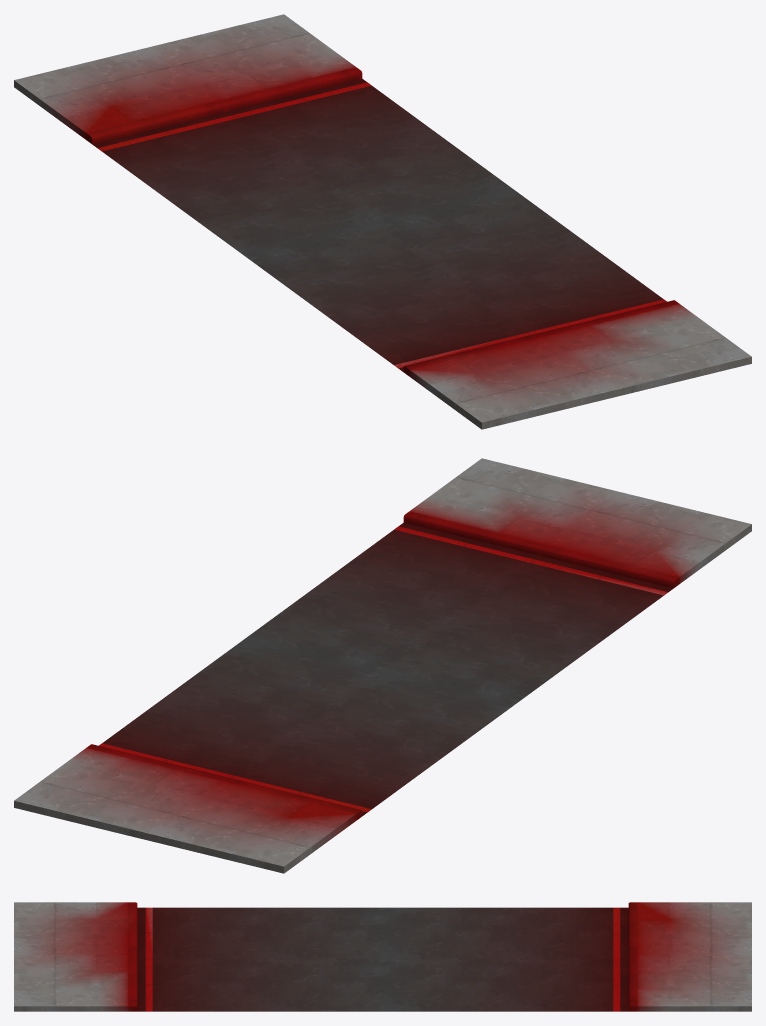
The model's file is Street_4Lane.glb.
The picture shows the model from 3 angles, top to bottom: view 1: azimuth 30°, elevation 25°; view 2: azimuth 150°, elevation 25°; view 3: azimuth 270°, elevation 25°; orthographic projection. The views are drawn at different scales.
Visible parts, largest first — view 1: Street_4Lane; view 2: Street_4Lane; view 3: Street_4Lane.
Part boxes in pixels (<box>): Street_4Lane: <box>14,14,751,429</box>; Street_4Lane: <box>14,458,751,873</box>; Street_4Lane: <box>14,902,751,1011</box>.
Bounding box in the file's own units: 6 × 0.1494 × 18.
3 materials, 3 textured.
